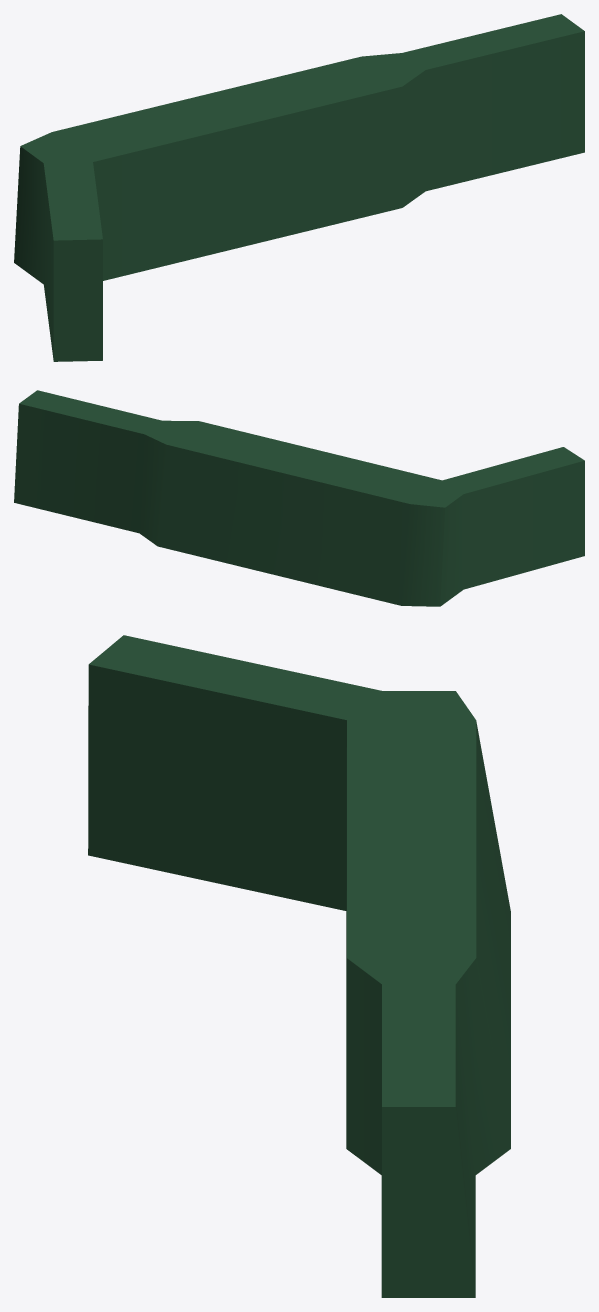
Rendered from wall8.fbx.
3 views of the same model, one above another, from view 1: azimuth 30°, elevation 25°; view 2: azimuth 150°, elevation 25°; view 3: azimuth 270°, elevation 25° (orthographic). The views are drawn at different scales.
Parts seen in each view (by area): view 1: wall8; view 2: wall8; view 3: wall8.
Boxes of the visible parts, bbox=[...] form: wall8: bbox=[14, 14, 584, 361]; wall8: bbox=[14, 390, 584, 606]; wall8: bbox=[88, 635, 510, 1297].
Bounding box in the file's own units: 411 × 77.73 × 156.
